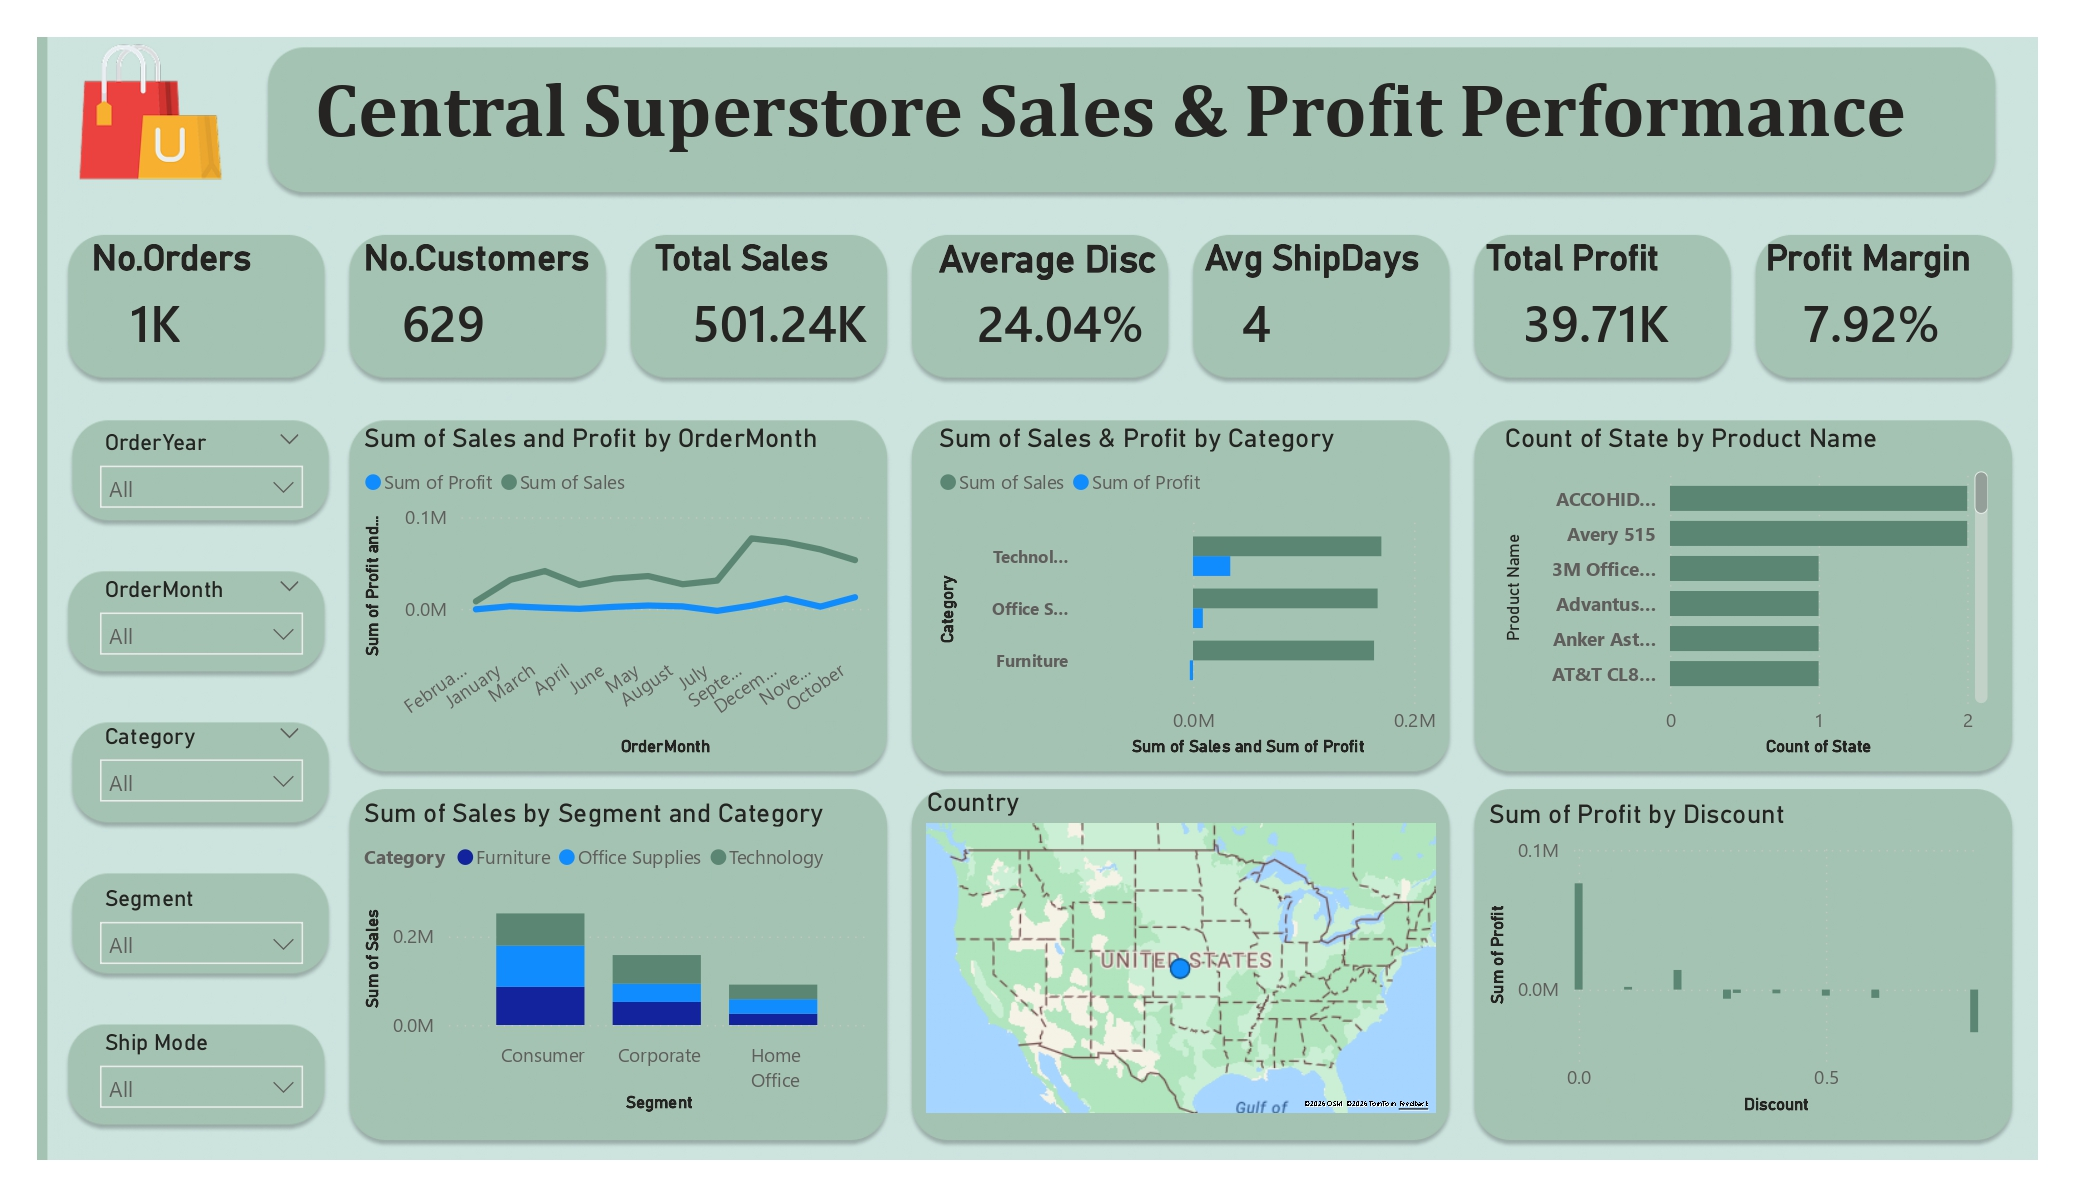

The page's visual inventory and layout, read from the dashboard file:
{"tool":"powerbi","page":{"name":"Page 1","canvas":[1280,720],"ordinal":0},"visuals":[{"type":"cardVisual","title":"Total Sales","fields":{"Data":["Central_Region.Total Sales"]},"box":[389.7,127.6,192.1,105.7],"z":0},{"type":"cardVisual","title":"Total Profit","fields":{"Data":["Central_Region.Total Profit"]},"box":[922.1,127.6,178.4,105.7],"z":1000},{"type":"cardVisual","title":"Profit Margin ","fields":{"Data":["Central_Region.Profit Margin %"]},"box":[1100.5,127.6,179.8,105.7],"z":2000},{"type":"cardVisual","title":"No.Customers","fields":{"Data":["Central_Region.# Customers"]},"box":[204.5,127.6,209.9,105.7],"z":3000},{"type":"cardVisual","title":"No.Orders","fields":{"Data":["Central_Region.# Orders"]},"box":[30.2,127.6,149.6,105.7],"z":4000},{"type":"cardVisual","title":"Average Disc ","fields":{"Data":["Central_Region.Avg Discount %"]},"box":[572.2,127.6,170.2,105.7],"z":5000},{"type":"cardVisual","title":"Avg ShipDays","fields":{"Data":["Central_Region.Avg ShipDays"]},"box":[742.4,127.6,157.8,105.7],"z":6000},{"type":"lineChart","title":"Sum of Sales and Profit by OrderMonth","fields":{"Category":["Central_Region.OrderMonth"],"Y":["Sum(Central_Region.Profit)","Sum(Central_Region.Sales)"]},"box":[204.5,245.6,332.1,219.6],"z":7000},{"type":"clusteredBarChart","title":"Sum of Sales &  Profit by Category","fields":{"Category":["Central_Region.Category"],"Y":["Sum(Central_Region.Sales)","Sum(Central_Region.Profit)"]},"box":[572.2,245.6,328,219.6],"z":8000},{"type":"barChart","fields":{"Category":["Central_Region.Product Name"],"Y":["CountNonNull(Central_Region.State)"]},"box":[934.5,245.6,318.4,219.6],"z":9000},{"type":"columnChart","fields":{"Category":["Central_Region.Segment"],"Y":["Sum(Central_Region.Sales)"],"Series":["Central_Region.Category"]},"box":[204.5,485.8,332.1,207.2],"z":10000},{"type":"azureMap","fields":{"Category":["Central_Region.Country","Central_Region.City"]},"box":[564,478.9,336.2,214.1],"z":11000},{"type":"columnChart","fields":{"Category":["Central_Region.Discount"],"Y":["Sum(Central_Region.Profit)"]},"box":[923.5,487.1,329.3,207.2],"z":12000},{"type":"slicer","fields":{"Values":["Central_Region.OrderYear"]},"box":[30.2,245.6,149.6,64.5],"z":13000},{"type":"slicer","fields":{"Values":["Central_Region.OrderMonth"]},"box":[30.2,340.3,149.6,64.5],"z":14000},{"type":"slicer","fields":{"Values":["Central_Region.Category"]},"box":[30.2,433.6,149.6,64.5],"z":15000},{"type":"slicer","fields":{"Values":["Central_Region.Segment"]},"box":[30.2,537.9,149.6,64.5],"z":16000},{"type":"slicer","fields":{"Values":["Central_Region.Ship Mode"]},"box":[30.2,629.8,149.6,64.5],"z":17000},{"type":"textbox","box":[159.2,12.3,1066.2,81],"z":17001}]}

Visuals, with their boxes on the page's 1280x720 design canvas (x1, y1, x2, y2). These are canvas units, not pixel positions in the 2075x1200 screenshot, which may show the page scaled, cropped or inside an application window:
"Total Sales" cardVisual: detection(390, 128, 582, 233)
"Total Profit" cardVisual: detection(922, 128, 1100, 233)
"Profit Margin " cardVisual: detection(1100, 128, 1280, 233)
"No.Customers" cardVisual: detection(204, 128, 414, 233)
"No.Orders" cardVisual: detection(30, 128, 180, 233)
"Average Disc " cardVisual: detection(572, 128, 742, 233)
"Avg ShipDays" cardVisual: detection(742, 128, 900, 233)
"Sum of Sales and Profit by OrderMonth" lineChart: detection(204, 246, 537, 465)
"Sum of Sales &  Profit by Category" clusteredBarChart: detection(572, 246, 900, 465)
barChart - Central_Region.Product Name x CountNonNull(Central_Region.State): detection(934, 246, 1253, 465)
columnChart - Central_Region.Segment x Sum(Central_Region.Sales): detection(204, 486, 537, 693)
azureMap - Central_Region.Country x Central_Region.City: detection(564, 479, 900, 693)
columnChart - Central_Region.Discount x Sum(Central_Region.Profit): detection(924, 487, 1253, 694)
slicer - Central_Region.OrderYear: detection(30, 246, 180, 310)
slicer - Central_Region.OrderMonth: detection(30, 340, 180, 405)
slicer - Central_Region.Category: detection(30, 434, 180, 498)
slicer - Central_Region.Segment: detection(30, 538, 180, 602)
slicer - Central_Region.Ship Mode: detection(30, 630, 180, 694)
textbox: detection(159, 12, 1225, 93)
